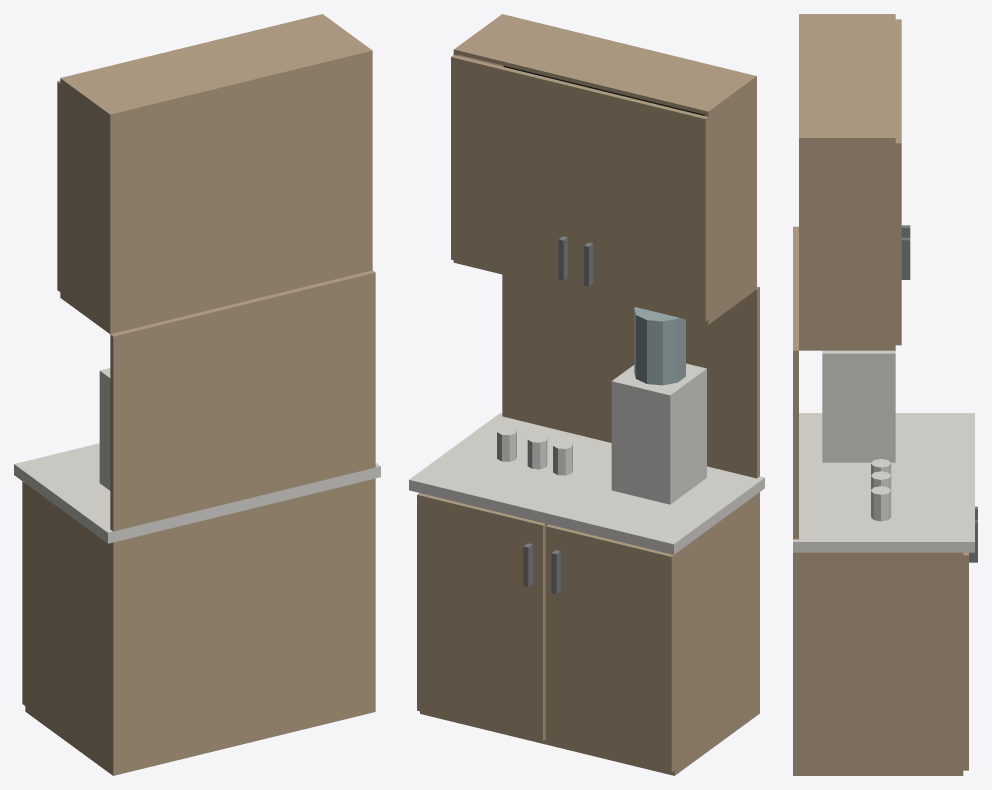
The model's file is tea_niche.fbx.
3 views of the same model, side by side, from view 1: azimuth 30°, elevation 25°; view 2: azimuth 150°, elevation 25°; view 3: azimuth 270°, elevation 25° (orthographic). The views are drawn at different scales.
Parts seen in each view (by area): view 1: tea_niche, tea_niche_lowerL, tea_niche_upperL; view 2: tea_niche, tea_niche_lowerL, tea_niche_lowerR, tea_niche_upperL, tea_niche_upperR; view 3: tea_niche, tea_niche_upperR, tea_niche_lowerR, tea_niche_upperL.
Boxes of the visible parts, left/top/right/bottom form: tea_niche: left=14, top=14, right=380, bottom=775; tea_niche_lowerL: left=22, top=481, right=25, bottom=705; tea_niche_upperL: left=57, top=80, right=60, bottom=291; tea_niche: left=409, top=14, right=764, bottom=775; tea_niche_lowerL: left=545, top=524, right=674, bottom=772; tea_niche_lowerR: left=417, top=493, right=545, bottom=741; tea_niche_upperL: left=578, top=86, right=708, bottom=321; tea_niche_upperR: left=451, top=55, right=580, bottom=290; tea_niche: left=793, top=14, right=974, bottom=775; tea_niche_upperR: left=895, top=81, right=910, bottom=345; tea_niche_lowerR: left=963, top=520, right=977, bottom=770; tea_niche_upperL: left=895, top=19, right=910, bottom=237.
Size of the model in its own units: 1.04 by 2.4 by 0.63.
